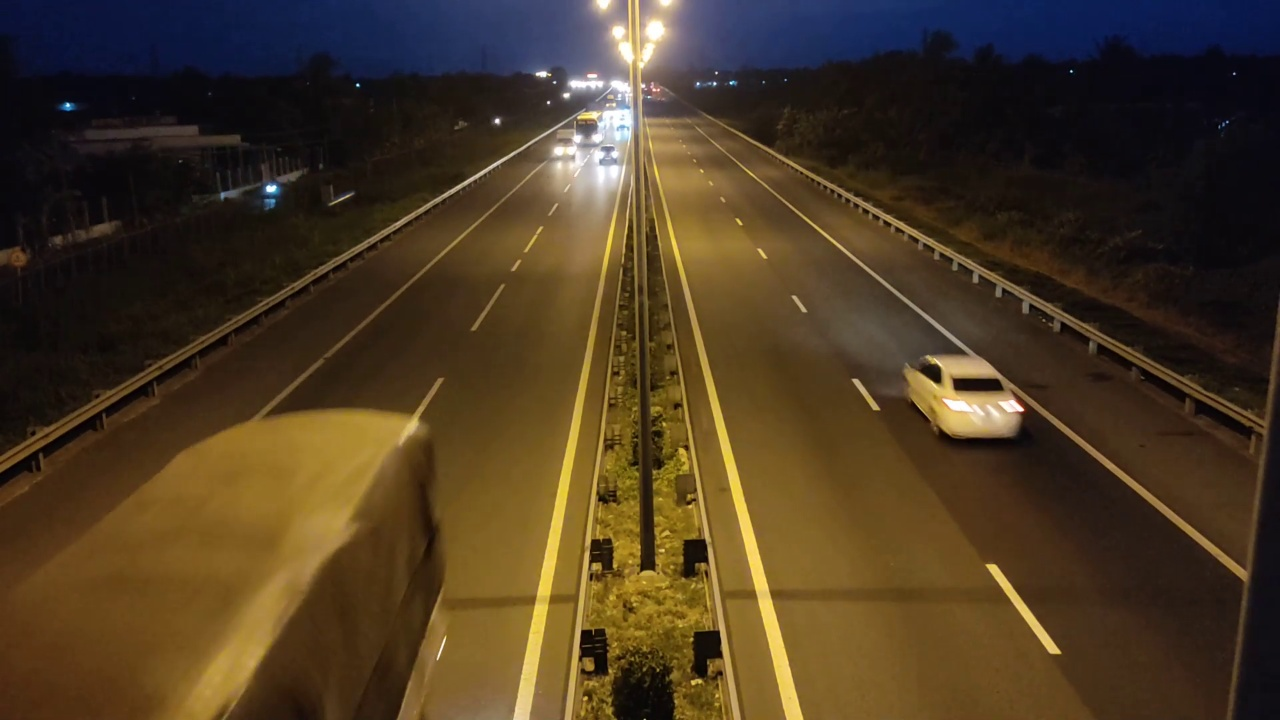car: (903, 353, 1027, 441)
